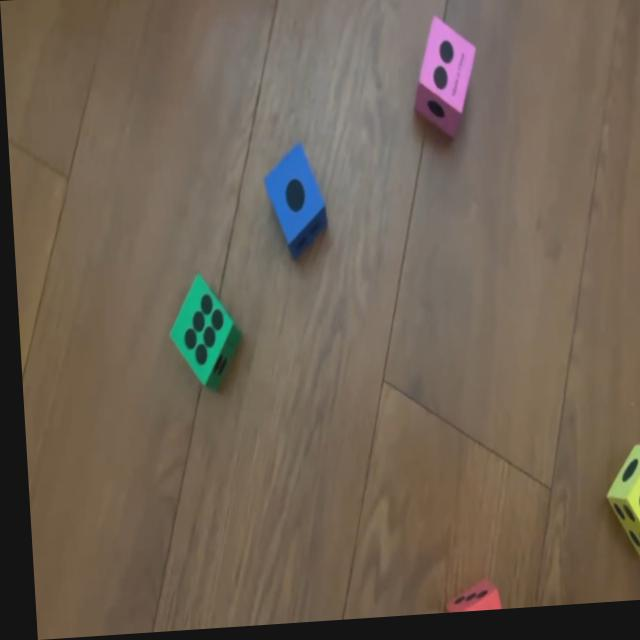cube: (163, 275, 237, 395), (262, 146, 327, 258), (438, 586, 494, 619)
